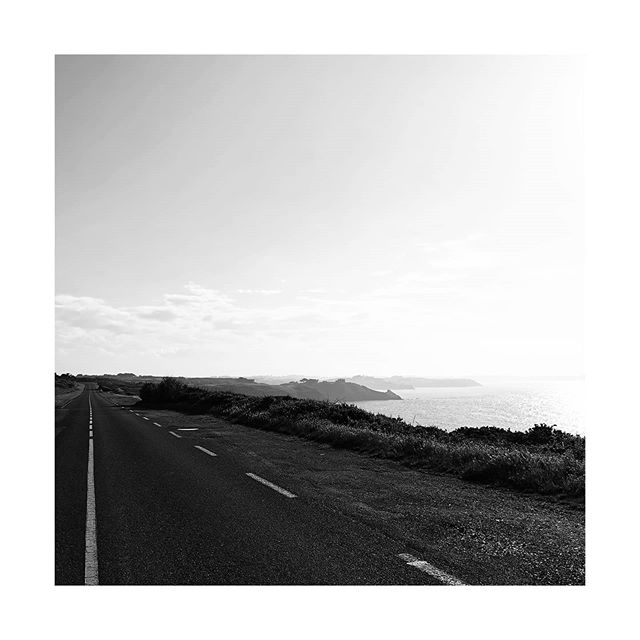sea: (370, 381, 577, 435)
sky: (57, 55, 577, 372)
street: (58, 388, 585, 581)
